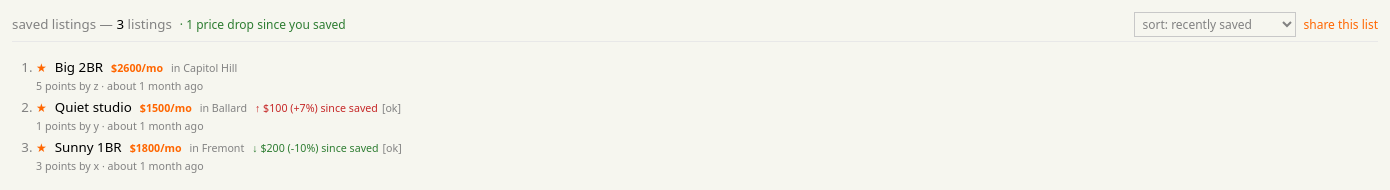
Saved page price changes › sorts biggest drop first and clears a badge on [ok]
expect the link "Sunny 1BR" is shown: met, box 55,138 -> 122,158
Select "sort: biggest price drop" in the dropdown at (1214,24), box 1134,12 -> 1296,37
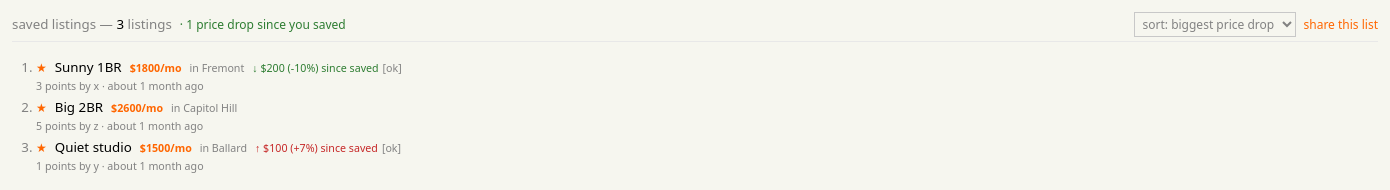
Click the button "[ok]" in the row of "-10".
click(392, 68)  # box 383,60 -> 402,76
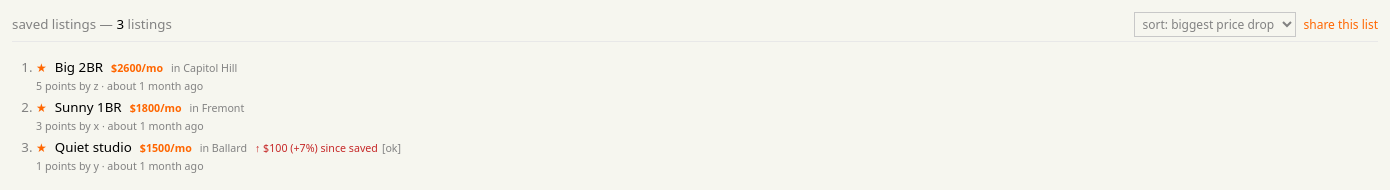
expect the text "since you saved" is gone: met
